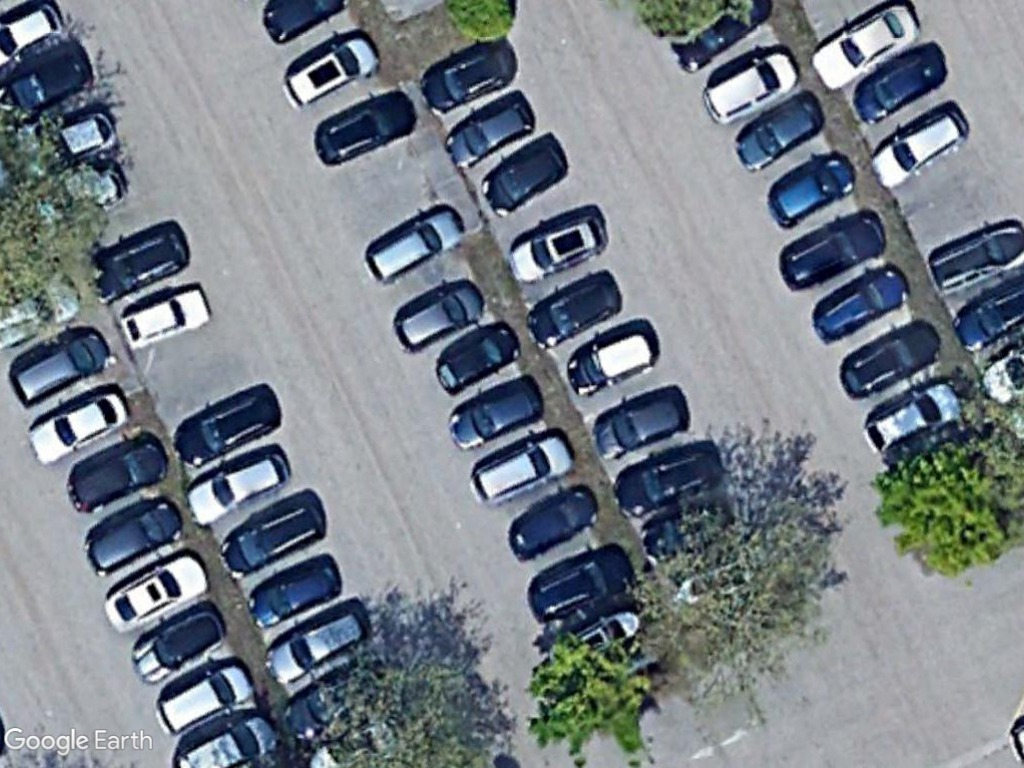car: (170, 378, 281, 472), (808, 1, 922, 92), (213, 496, 327, 584), (772, 208, 886, 295), (22, 382, 132, 472), (261, 600, 369, 690), (308, 84, 418, 171), (864, 104, 970, 194), (185, 441, 292, 530), (522, 544, 634, 628), (611, 439, 725, 521), (78, 495, 184, 582), (468, 426, 580, 508), (101, 551, 211, 634), (835, 320, 946, 402), (88, 221, 193, 307), (123, 602, 228, 688), (360, 204, 467, 288), (63, 434, 170, 517), (809, 261, 912, 347), (436, 90, 539, 175), (859, 375, 964, 456), (240, 549, 343, 631), (762, 145, 862, 229), (523, 271, 625, 353), (152, 657, 254, 738), (848, 48, 950, 129), (588, 384, 691, 464), (507, 209, 611, 288), (417, 37, 519, 117), (278, 33, 379, 113), (475, 135, 568, 221), (390, 275, 488, 356), (501, 486, 599, 567), (561, 320, 659, 401), (444, 377, 543, 456), (924, 218, 1024, 296), (730, 93, 824, 175), (111, 284, 219, 353), (703, 50, 800, 126), (430, 320, 523, 399)
van: (10, 327, 112, 409)
